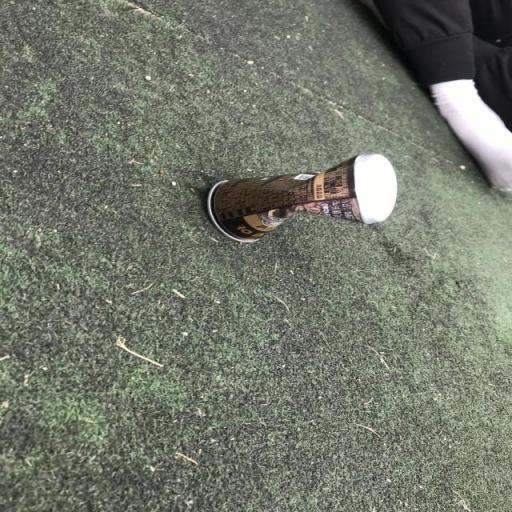metal: (172, 122, 414, 252)
